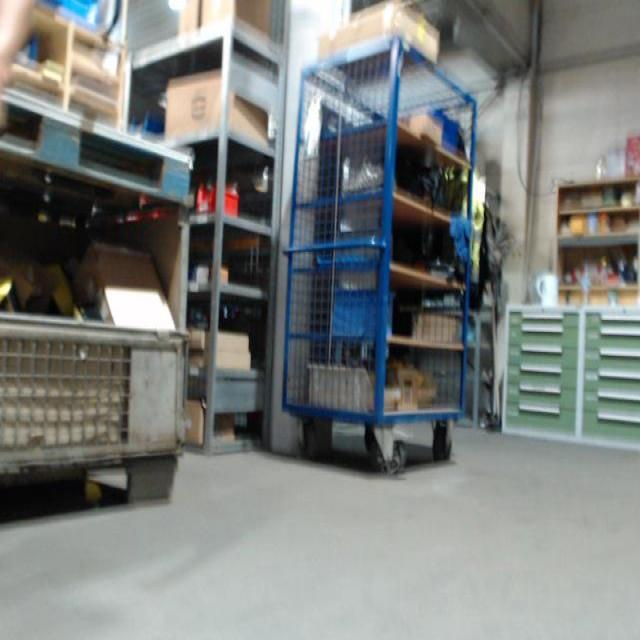pallet: (2, 94, 191, 205)
stillage: (0, 214, 187, 530)
